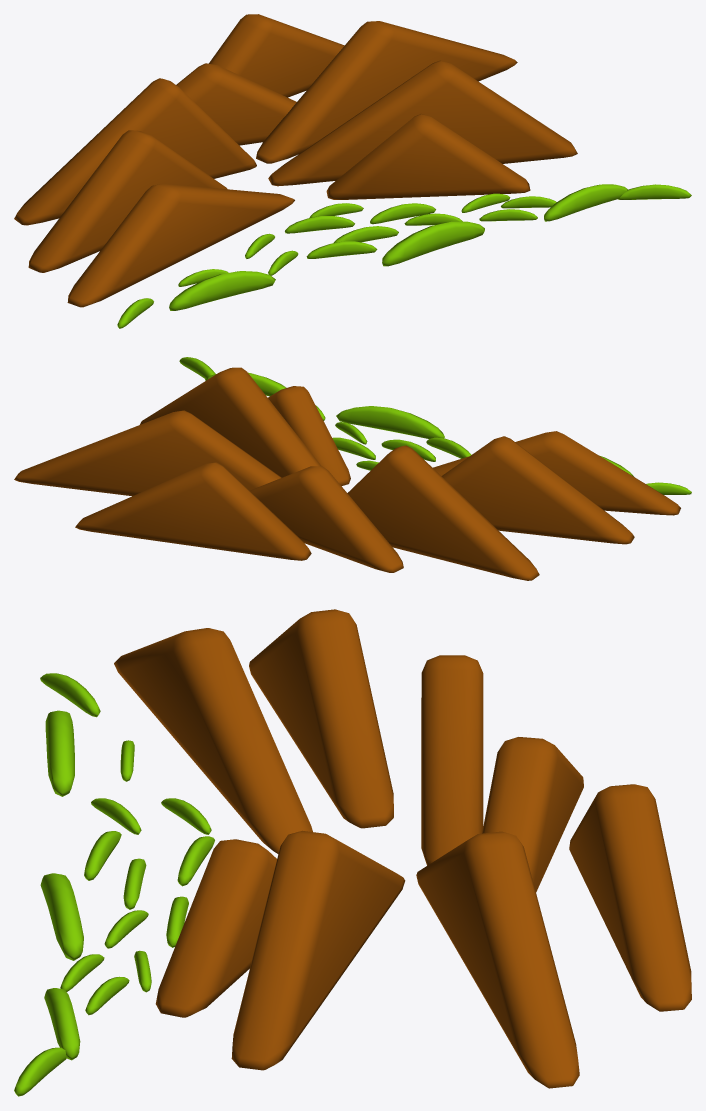
Rendered from Mountain.fbx.
3 views of the same model, one above another, from view 1: azimuth 30°, elevation 25°; view 2: azimuth 150°, elevation 25°; view 3: azimuth 270°, elevation 25° (orthographic). The views are drawn at different scales.
Parts seen in each view (by area): view 1: mountains.006, mountains.007, mountains, mountains.001, mountains.004, mountains.002, mountains.005, mountains.003, grass_mountains.004, grass_mountains.001, grass_mountains, grass_mountains.007 (+9 smaller); view 2: mountains.005, mountains.001, mountains.007, mountains.002, mountains.003, mountains.006, mountains, mountains.004, grass_mountains.004, grass_mountains.011, grass_mountains.003, grass_mountains.010 (+3 smaller); view 3: mountains.006, mountains.007, mountains, mountains.002, mountains.005, mountains.004, mountains.001, mountains.003, grass_mountains.004, grass_mountains.001, grass_mountains, grass_mountains.007 (+10 smaller).
Part boxes in pixels (x1,y1,x2,y2): mountains.006: (268, 60, 577, 186); mountains.007: (256, 21, 517, 163); mountains: (67, 183, 294, 307); mountains.001: (14, 78, 256, 225); mountains.004: (326, 113, 530, 199); mountains.002: (28, 130, 227, 272); mountains.005: (209, 14, 344, 97); mountains.003: (176, 63, 296, 145); grass_mountains.004: (382, 221, 484, 266); grass_mountains.001: (169, 271, 275, 310); grass_mountains: (544, 184, 627, 221); grass_mountains.007: (618, 184, 691, 199); mountains.005: (75, 462, 311, 560); mountains.001: (347, 445, 539, 580); mountains.007: (14, 410, 281, 496); mountains.002: (441, 436, 634, 544); mountains.003: (250, 466, 403, 572); mountains.006: (140, 367, 321, 477); mountains: (433, 431, 680, 515); mountains.004: (268, 386, 350, 486); grass_mountains.004: (336, 406, 444, 438); grass_mountains.011: (332, 437, 375, 459); grass_mountains.003: (426, 437, 471, 458); grass_mountains.010: (381, 439, 435, 461); mountains.006: (231, 830, 405, 1070); mountains.007: (416, 831, 579, 1088); mountains: (114, 628, 312, 853); mountains.002: (249, 609, 393, 828); mountains.005: (569, 784, 691, 1011); mountains.004: (155, 839, 276, 1017); mountains.001: (421, 655, 483, 865); mountains.003: (482, 737, 583, 892); grass_mountains.004: (40, 873, 83, 960); grass_mountains.001: (45, 710, 74, 796); grass_mountains: (44, 988, 80, 1060); grass_mountains.007: (14, 1047, 66, 1096).
Size of what is drawn, in the model's own units: 62702 by 11240 by 41561.
